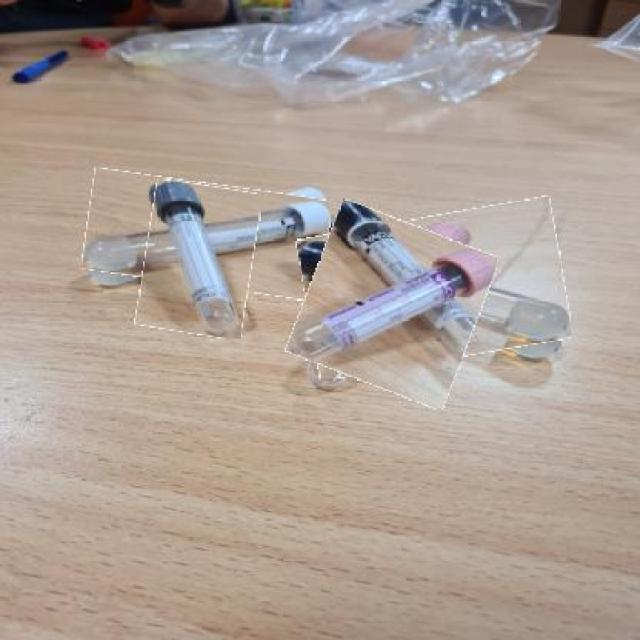Experimental-tube: (301, 207, 568, 370), (296, 211, 487, 398), (84, 176, 330, 295), (139, 182, 256, 338)
